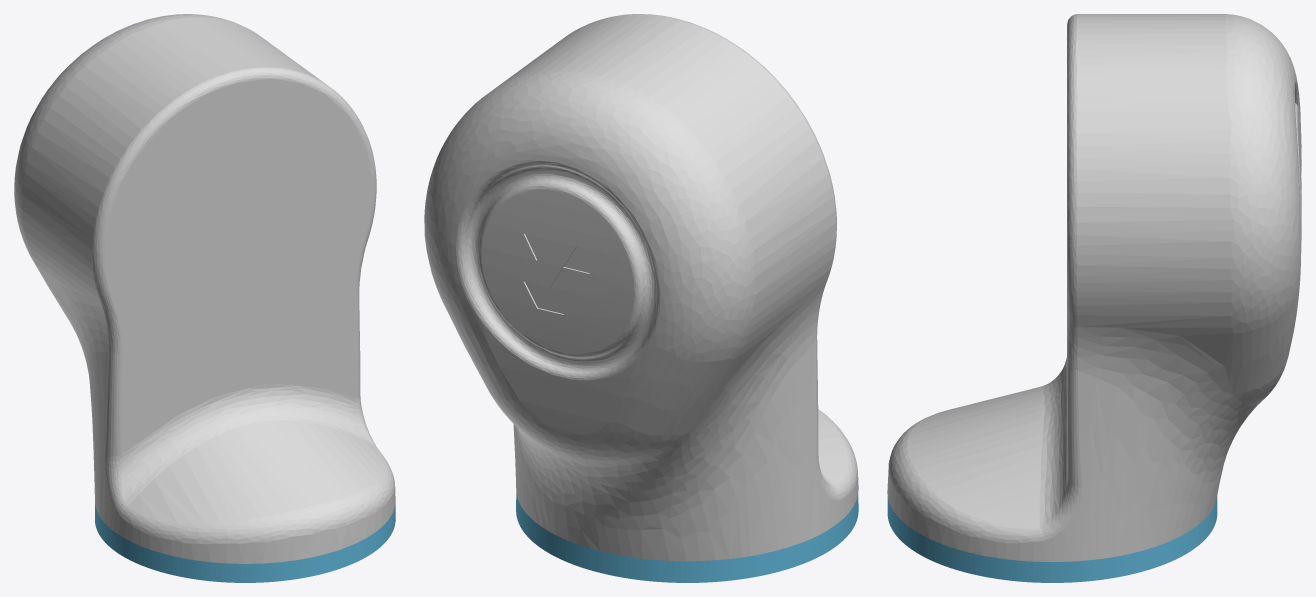
3 views of the same model, side by side, from view 1: azimuth 30°, elevation 25°; view 2: azimuth 150°, elevation 25°; view 3: azimuth 270°, elevation 25° (orthographic). The views are drawn at different scales.
Visible parts, largest first — view 1: Untitled_005_001, Untitled_005; view 2: Untitled_005_001, Untitled_005; view 3: Untitled_005_001, Untitled_005.
Boxes of the visible parts, bbox=[...] form: Untitled_005_001: bbox=[14, 14, 395, 563]; Untitled_005: bbox=[95, 503, 395, 582]; Untitled_005_001: bbox=[424, 14, 858, 561]; Untitled_005: bbox=[516, 493, 858, 582]; Untitled_005_001: bbox=[887, 14, 1301, 561]; Untitled_005: bbox=[887, 496, 1217, 582].
Size of the model in its own units: 0.098 by 0.1131 by 0.1453.
